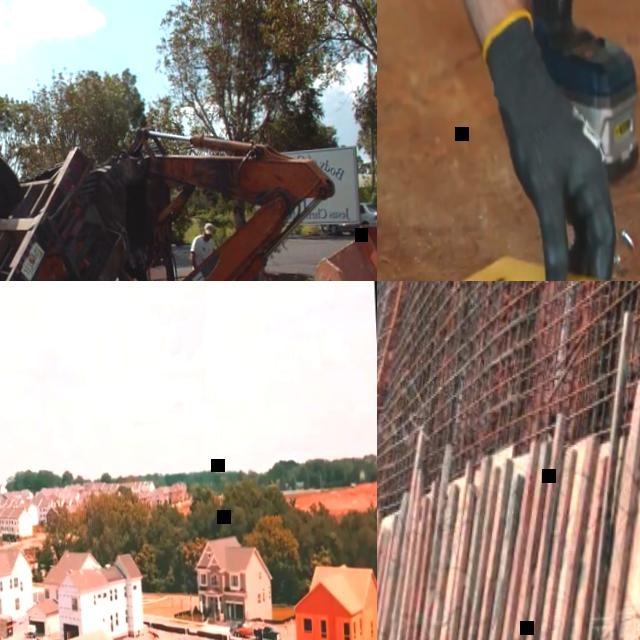NO-Hardhat: (205, 219, 215, 234)
NO-Mask: (203, 236, 211, 243)
NO-Safety Vest: (196, 235, 214, 261)
Person: (377, 0, 632, 281), (188, 219, 221, 281)
machinery: (0, 125, 343, 281)
vehicle: (342, 200, 377, 233), (253, 623, 281, 640)
